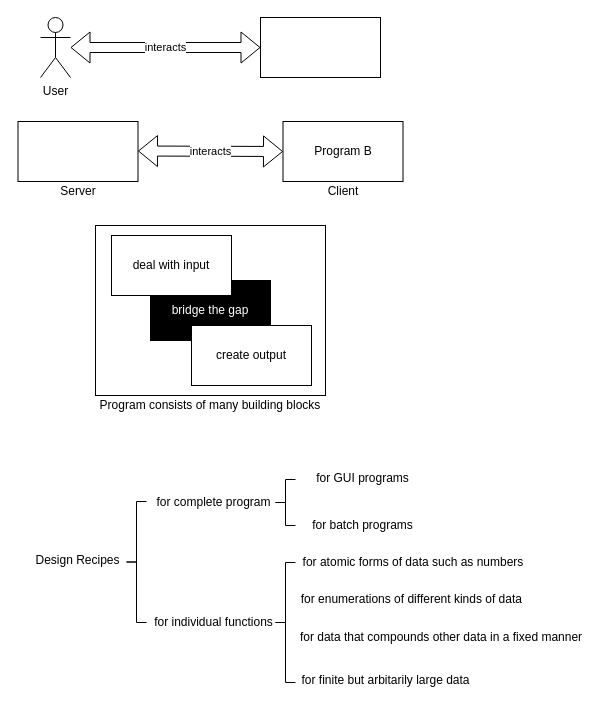
This 604x708 diagram has some shape labels left out. The shapes that lost their labels are listed below. From the top down, each one's centre as x and y in pixels, then its label:
point (320, 47): Program
point (77, 151): Program A
